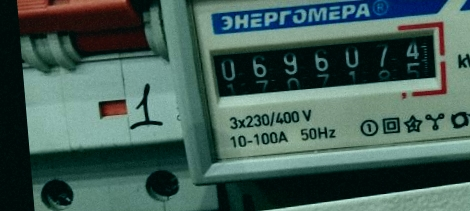0: (215, 55, 236, 82), (341, 42, 360, 69)
4: (402, 36, 420, 61)
5: (404, 60, 421, 79)
6: (248, 50, 269, 79), (310, 46, 329, 72)
7: (370, 40, 391, 68)
9: (278, 49, 299, 75)
screen: (195, 15, 453, 117)
